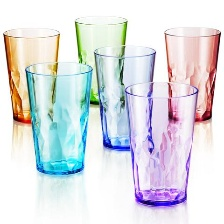glass: (120, 75, 203, 213), (22, 57, 96, 179), (91, 40, 163, 154), (158, 22, 224, 124), (0, 23, 63, 126), (70, 10, 133, 110)
